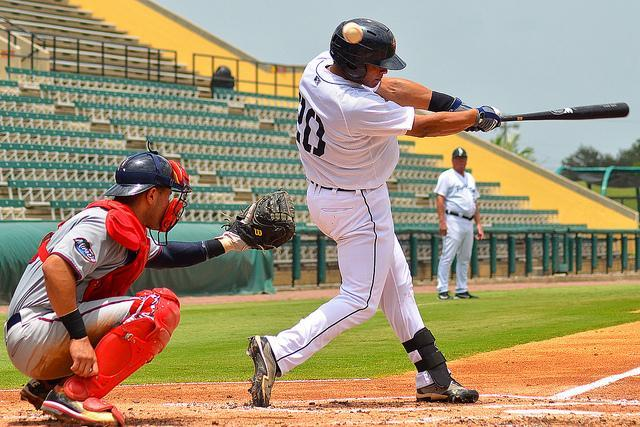ball: (342, 22, 364, 44)
bat: (499, 102, 631, 130)
